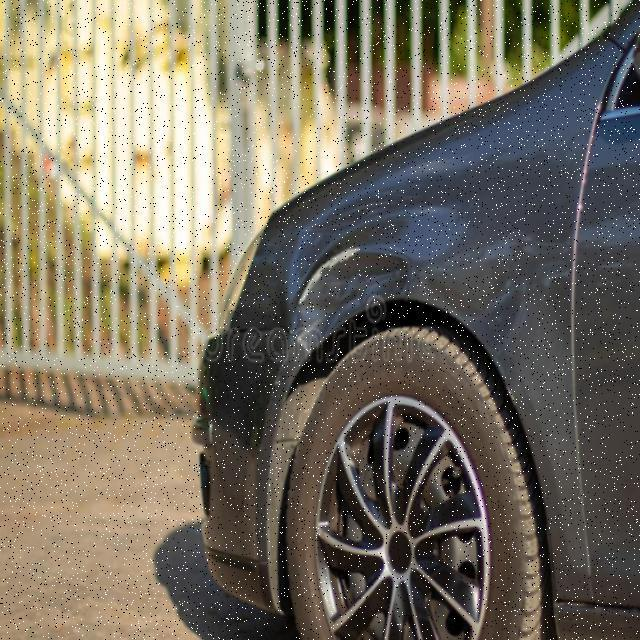fender-dent: (264, 157, 574, 407)
